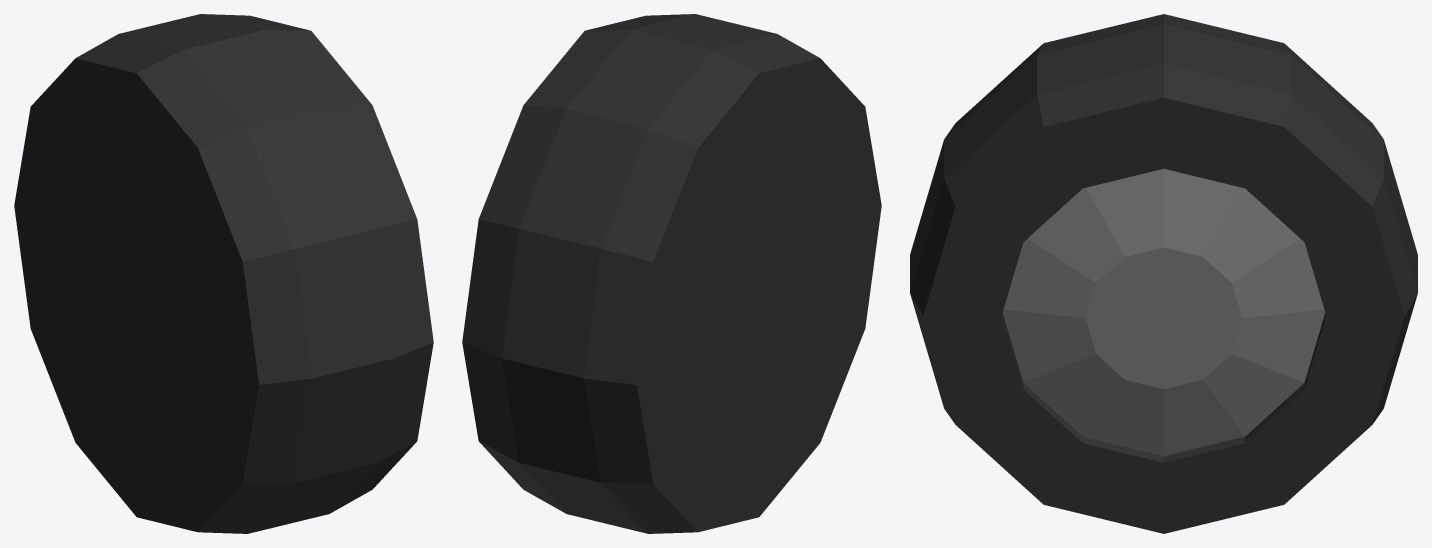
The model's file is RuedaSola.fbx.
3 renders of one model, left to right at view 1: azimuth 30°, elevation 25°; view 2: azimuth 150°, elevation 25°; view 3: azimuth 270°, elevation 25°, orthographic.
Visible parts, largest first — view 1: RuedaSola; view 2: RuedaSola; view 3: RuedaSola.
Boxes of the visible parts, bbox=[...] form: RuedaSola: bbox=[14, 14, 433, 533]; RuedaSola: bbox=[462, 14, 881, 533]; RuedaSola: bbox=[910, 14, 1417, 533].
Bounding box in the file's own units: 613 × 1525 × 1525.
Materials: 1 (1 with a texture image).
